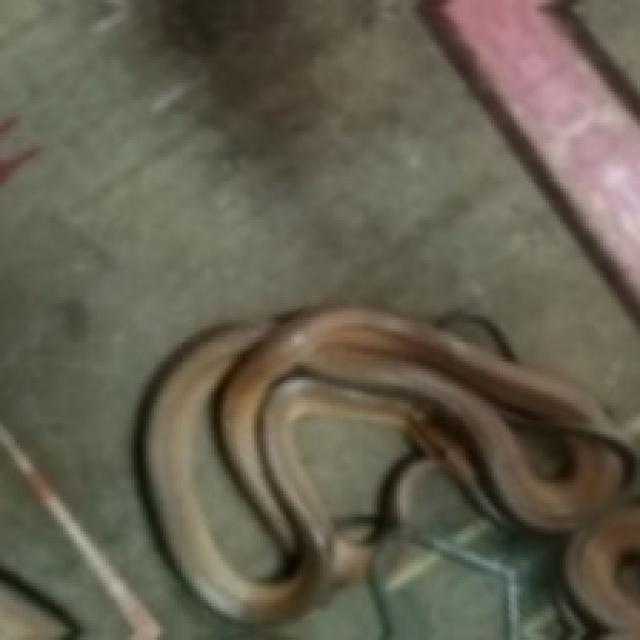red-tailed green ratsnake: (134, 306, 631, 620), (294, 417, 406, 509)
